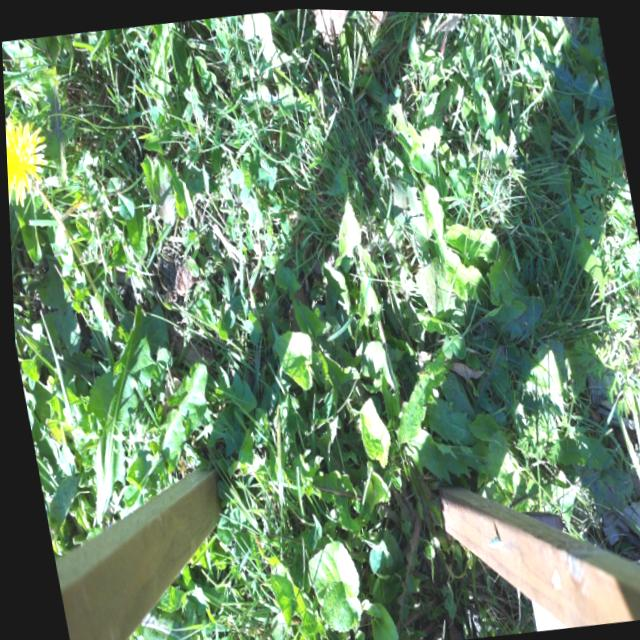base: (87, 290, 121, 340)
